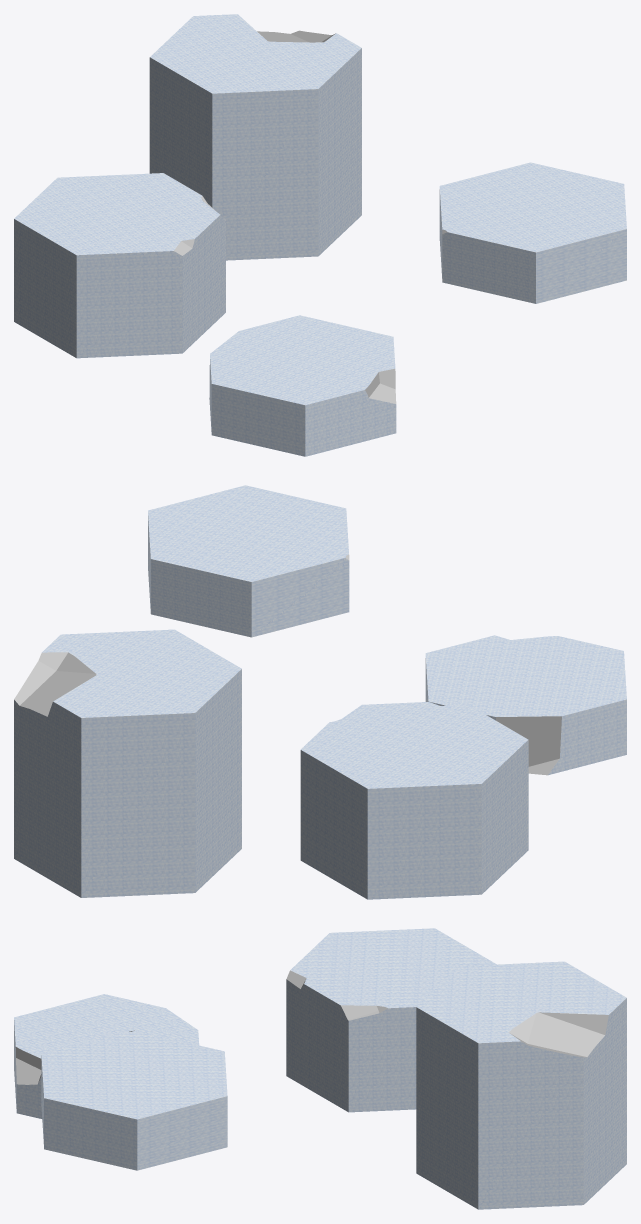
File: Area3Columns.fbx
The picture shows the model from 3 angles, top to bottom: view 1: azimuth 30°, elevation 25°; view 2: azimuth 150°, elevation 25°; view 3: azimuth 270°, elevation 25°; orthographic projection. The views are drawn at different scales.
Parts seen in each view (by area): view 1: Cylinder__15_.008; view 2: Cylinder__15_.008; view 3: Cylinder__15_.008.
Boxes of the visible parts, x1,y1,x2,y2 form: Cylinder__15_.008: (14, 14, 626, 456); Cylinder__15_.008: (14, 485, 626, 899); Cylinder__15_.008: (14, 928, 626, 1209).
Size of the model in its own units: 3740 by 1302 by 4340.
